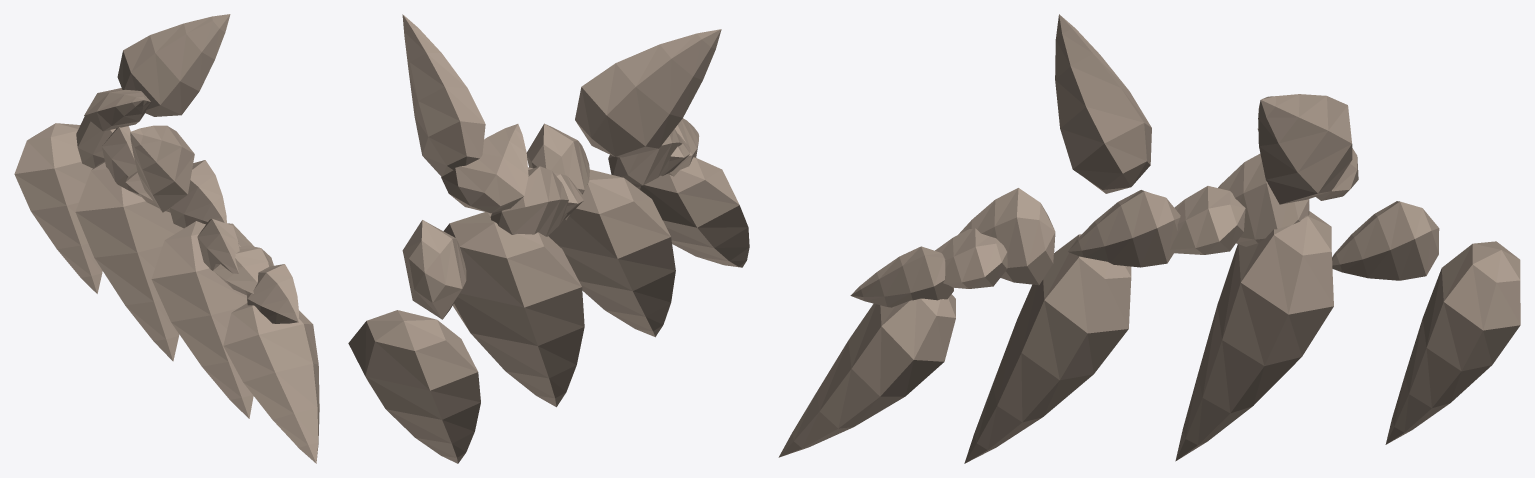
File: fur_tail_clumps.glb
3 views of the same model, side by side, from view 1: azimuth 30°, elevation 25°; view 2: azimuth 150°, elevation 25°; view 3: azimuth 270°, elevation 25° (orthographic). The views are drawn at different scales.
Visible parts, largest first — view 1: fur_tail_clumps; view 2: fur_tail_clumps; view 3: fur_tail_clumps.
Boxes of the visible parts, x1=… form: fur_tail_clumps: x1=14, y1=14, x2=319, y2=463; fur_tail_clumps: x1=348, y1=14, x2=749, y2=463; fur_tail_clumps: x1=778, y1=14, x2=1520, y2=463.
Bounding box in the file's own units: 0.1823 × 0.3076 × 0.4884.
